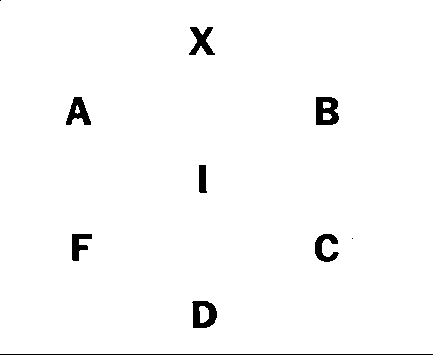I: (190, 160, 217, 200)
